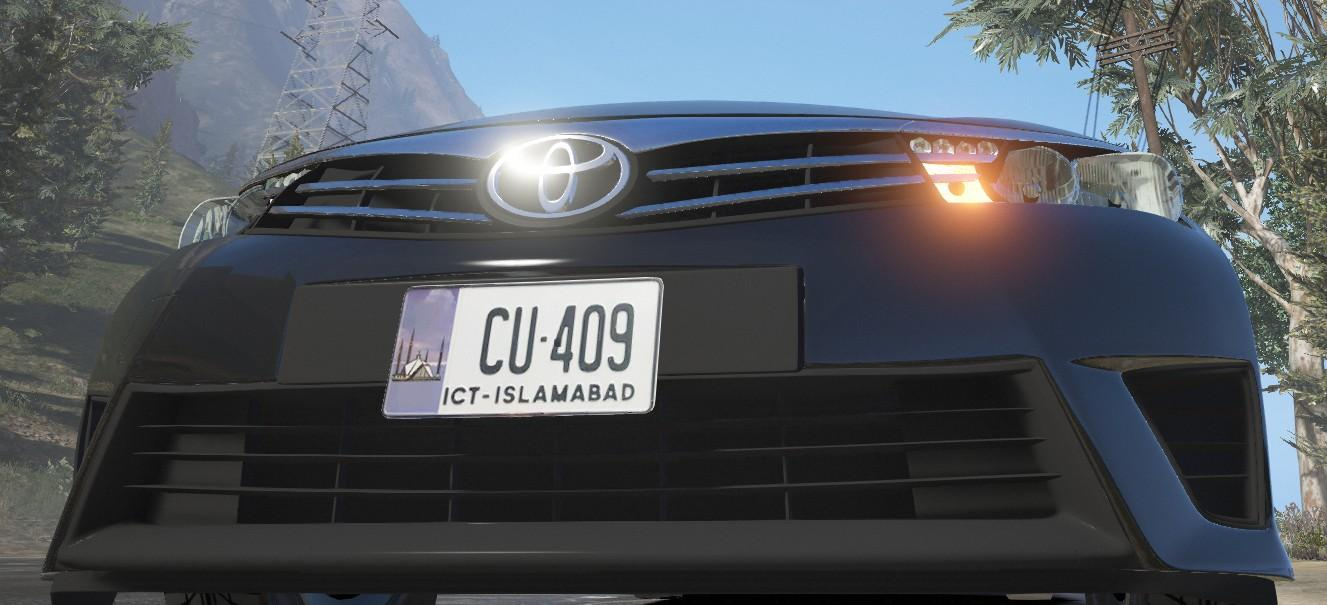plate: (373, 275, 669, 425)
